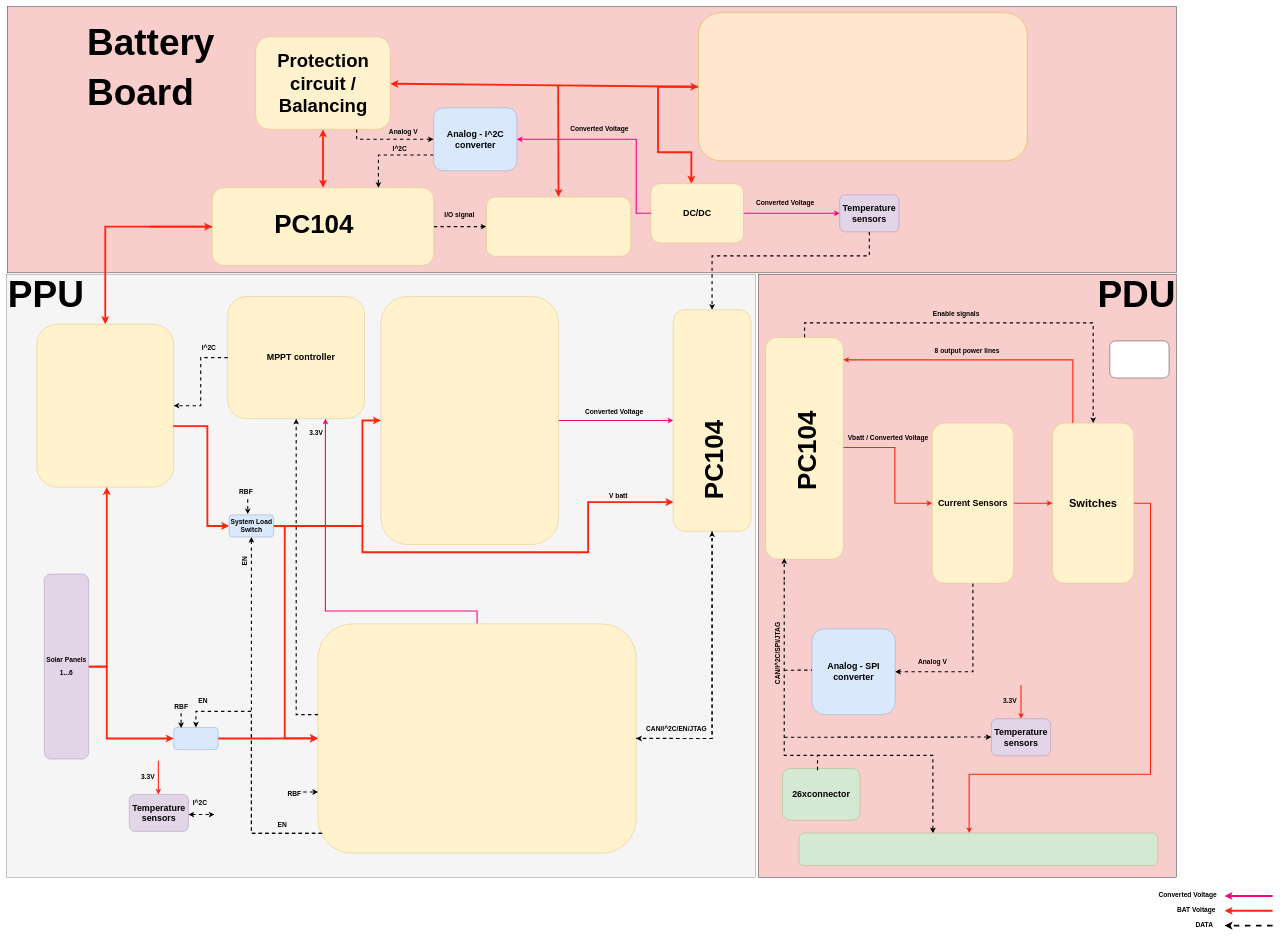
Some shapes in this 1283 by 941 pixel diagram are drawn without their labels. Each missing label, with the box of its shape:
Battery: (698, 12, 1027, 161)
Battery charger: (36, 324, 174, 487)
Bypass Load Switch: (173, 727, 218, 750)
HEATER: (486, 197, 631, 256)
Power Control Unit: (318, 623, 636, 853)
Power Processing: (381, 296, 559, 544)
Side Connectors: (799, 833, 1158, 866)
Temperature sensors connector: (1109, 341, 1169, 378)
